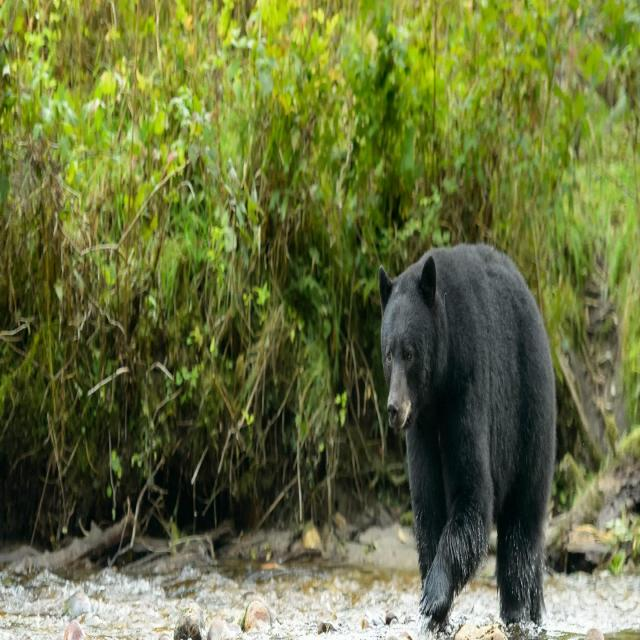Bear: (379, 244, 559, 640)
